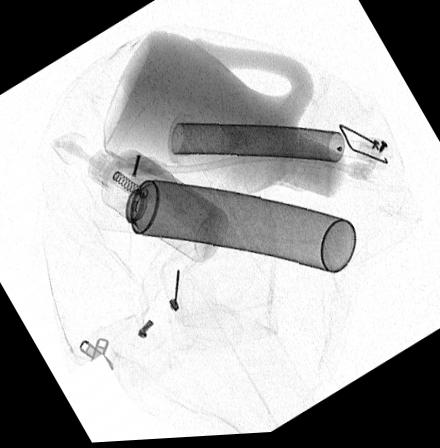Sprayer: (97, 170, 357, 277), (88, 150, 229, 264)
